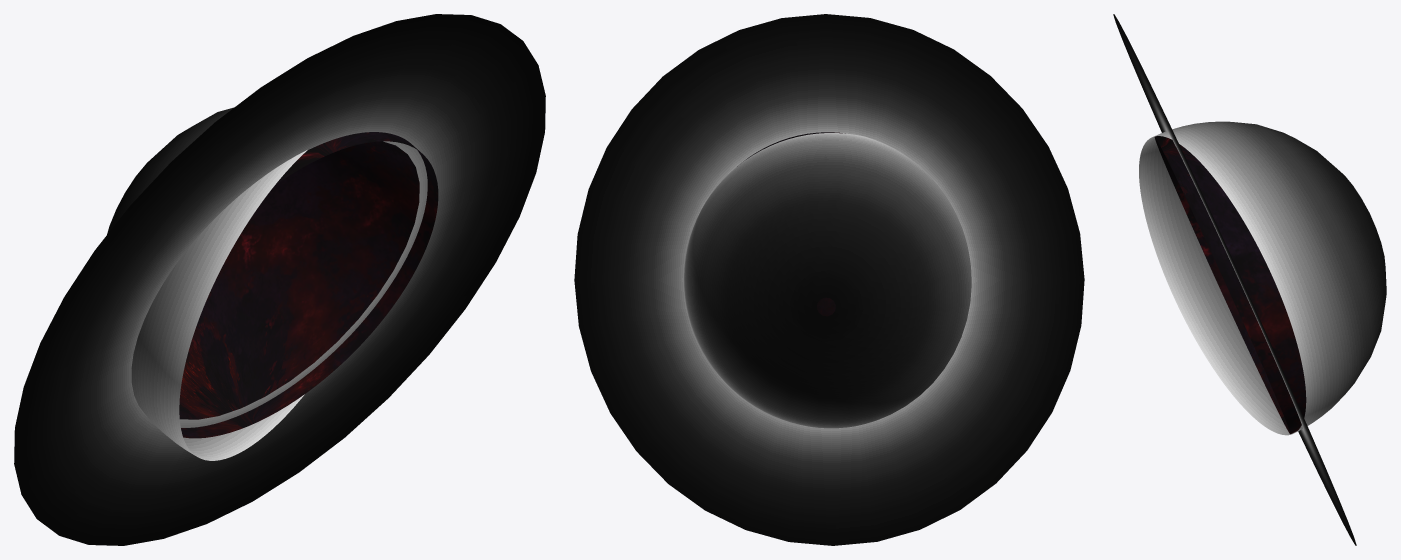
The model's file is env_space_mustafar_01_pre.glb.
The picture shows the model from 3 angles, left to right: view 1: azimuth 30°, elevation 25°; view 2: azimuth 150°, elevation 25°; view 3: azimuth 270°, elevation 25°; orthographic projection. The views are drawn at different scales.
Parts seen in each view (by area): view 1: planet_glow_mesh, planet_body_mesh, planet_fresnel_mesh; view 2: planet_glow_mesh, planet_fresnel_mesh; view 3: planet_fresnel_mesh, planet_body_mesh, planet_glow_mesh.
Boxes of the visible parts, left/top/right/bottom form: planet_glow_mesh: left=14, top=14, right=545, bottom=545; planet_body_mesh: left=179, top=132, right=438, bottom=438; planet_fresnel_mesh: left=107, top=107, right=307, bottom=460; planet_glow_mesh: left=574, top=14, right=1084, bottom=545; planet_fresnel_mesh: left=684, top=133, right=971, bottom=428; planet_fresnel_mesh: left=1139, top=121, right=1386, bottom=435; planet_body_mesh: left=1154, top=136, right=1306, bottom=434; planet_glow_mesh: left=1113, top=14, right=1356, bottom=545.
Size of the model in its own units: 879 by 834 by 418.
3 materials, 3 textured.
